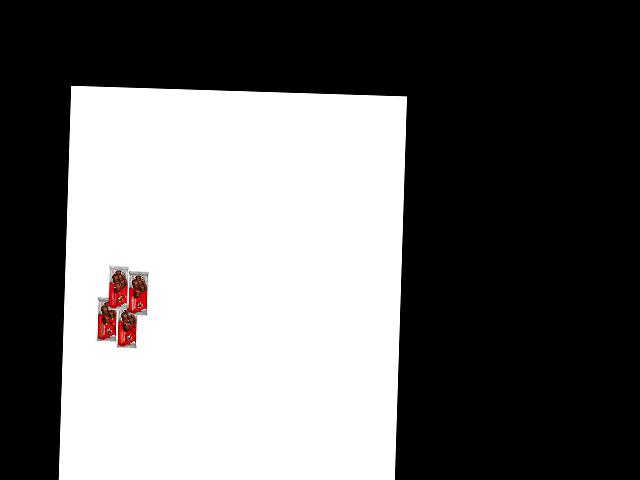chocolate: (94, 294, 121, 345)
